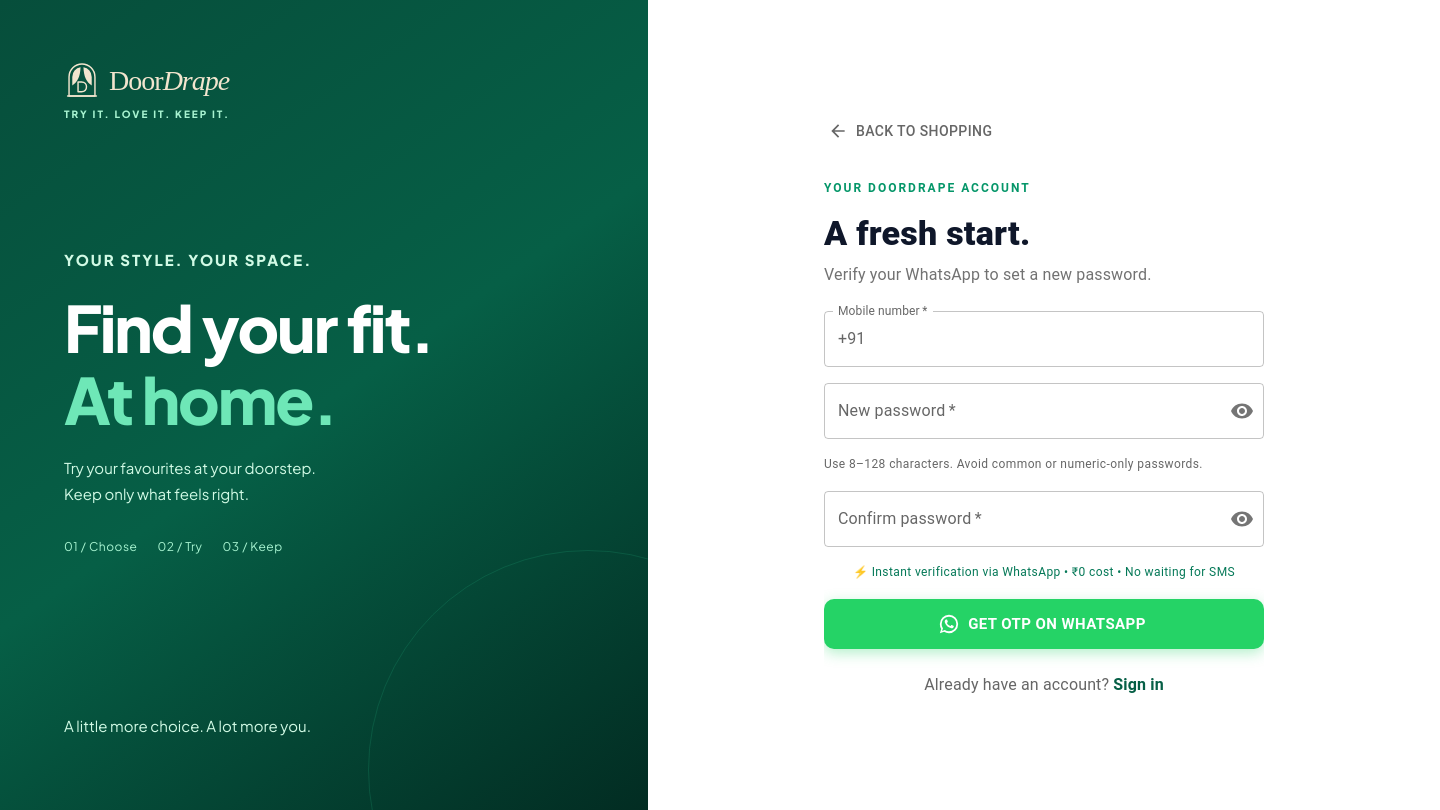
Test: shows error when unregistered mobile tries to reset password
The width and height of the screenshot is (1440, 810).
Type "9998887776" into the field labelled "Mobile number *" at [1069, 339], box left=874, top=311, right=1264, bottom=367
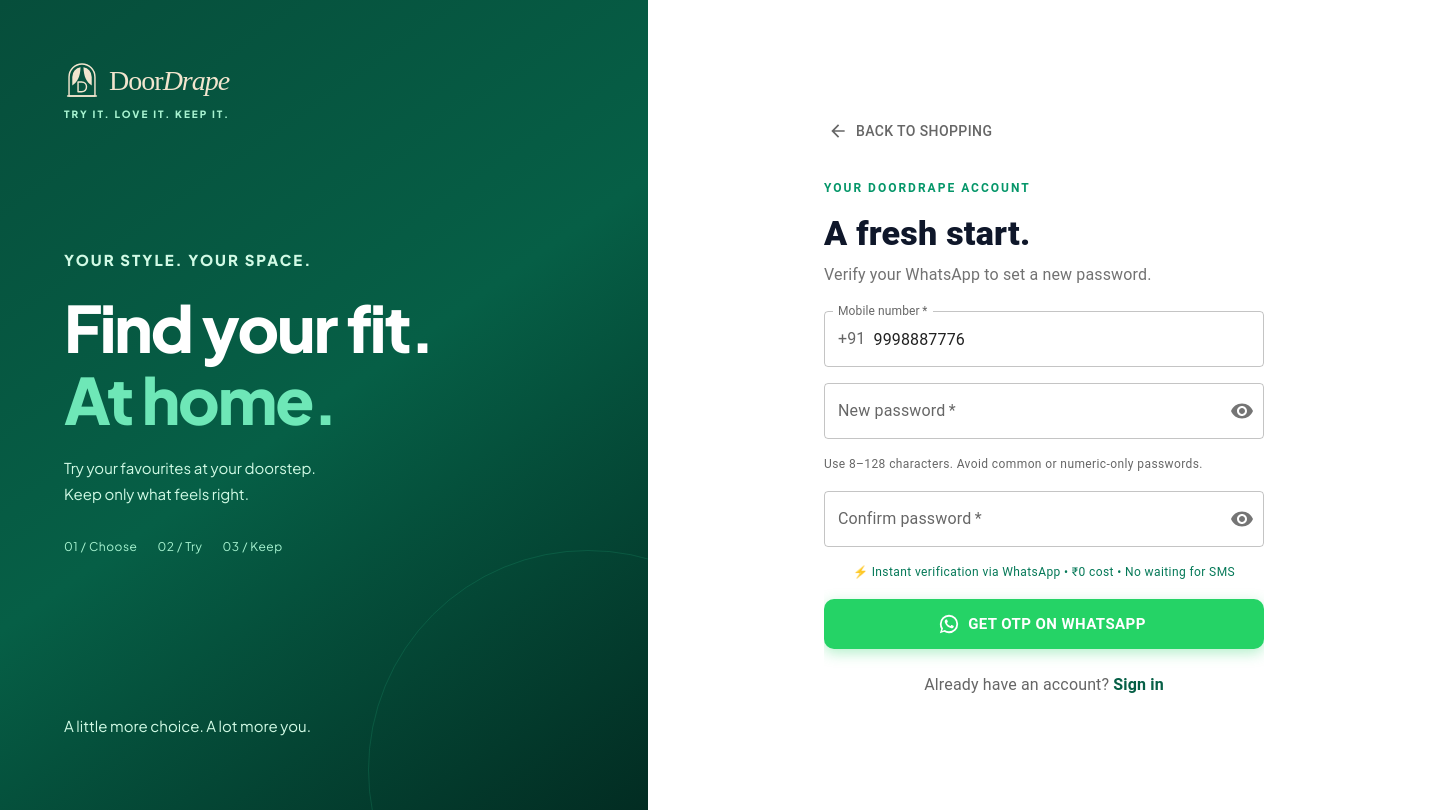
Type "SecretPass123!" into the password field labelled "New password *" at [1019, 411], box left=824, top=383, right=1214, bottom=439
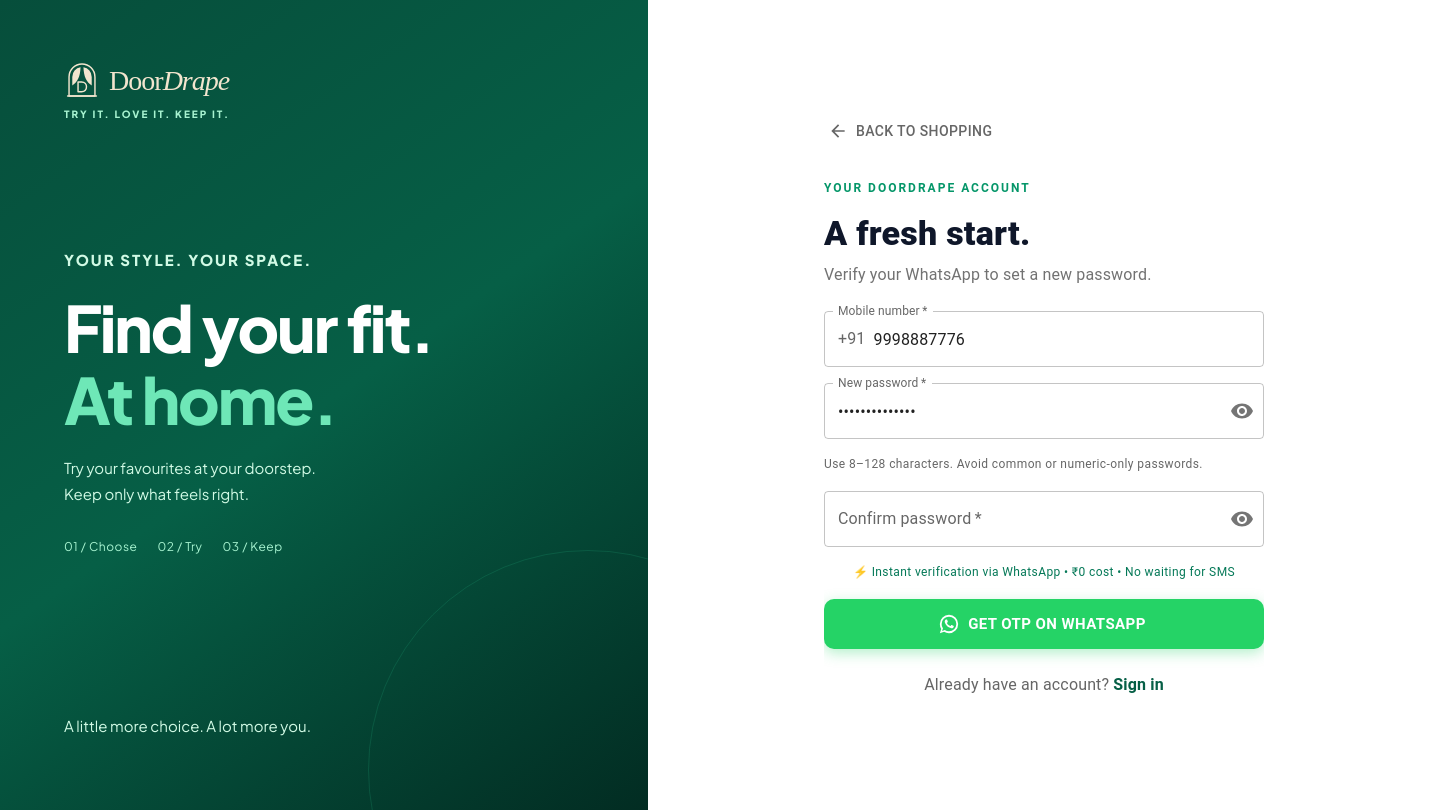
Type "SecretPass123!" into the password field labelled "Confirm password *" at [1019, 519], box left=824, top=491, right=1214, bottom=547
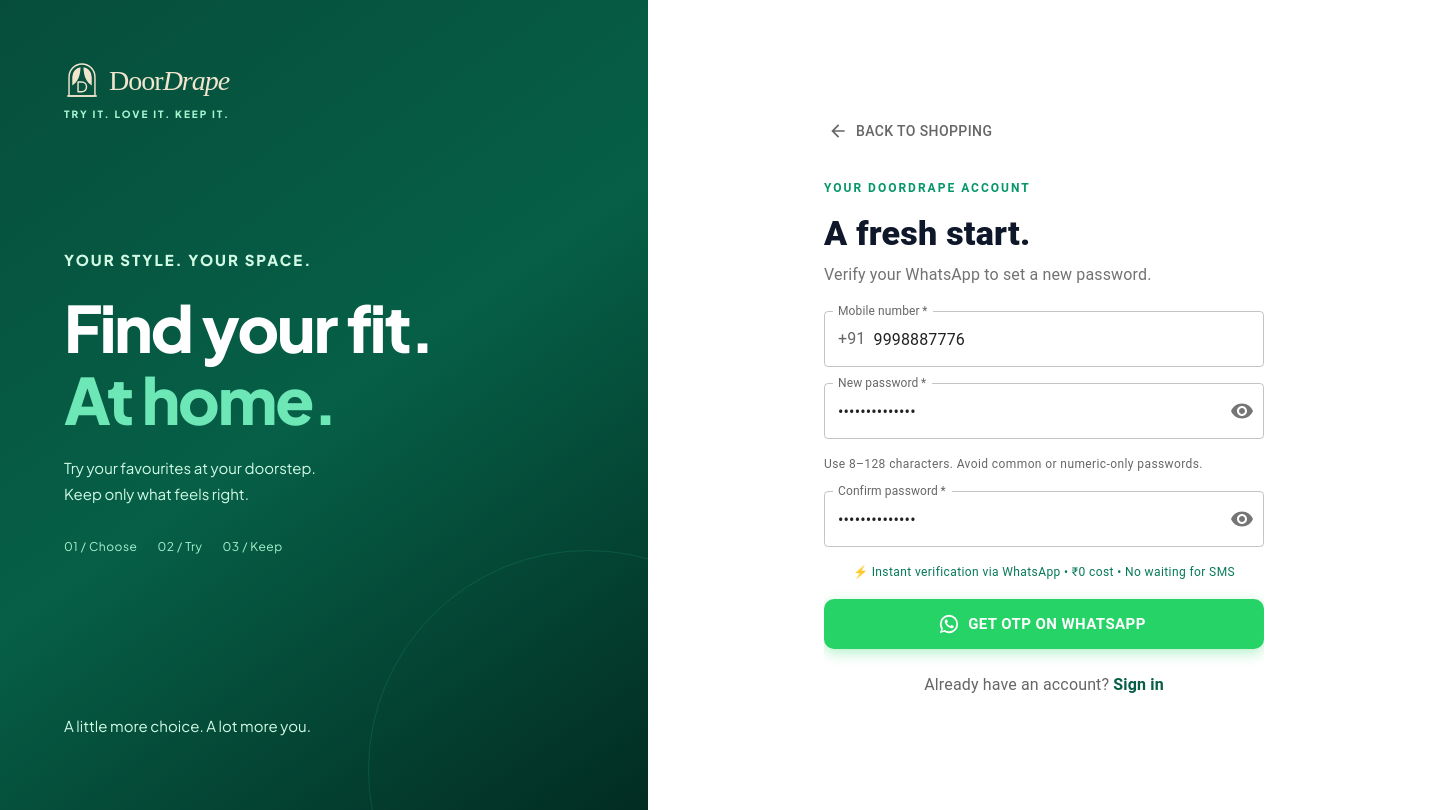
Click the button "Get OTP on WhatsApp" at [1044, 624], box left=824, top=599, right=1264, bottom=649
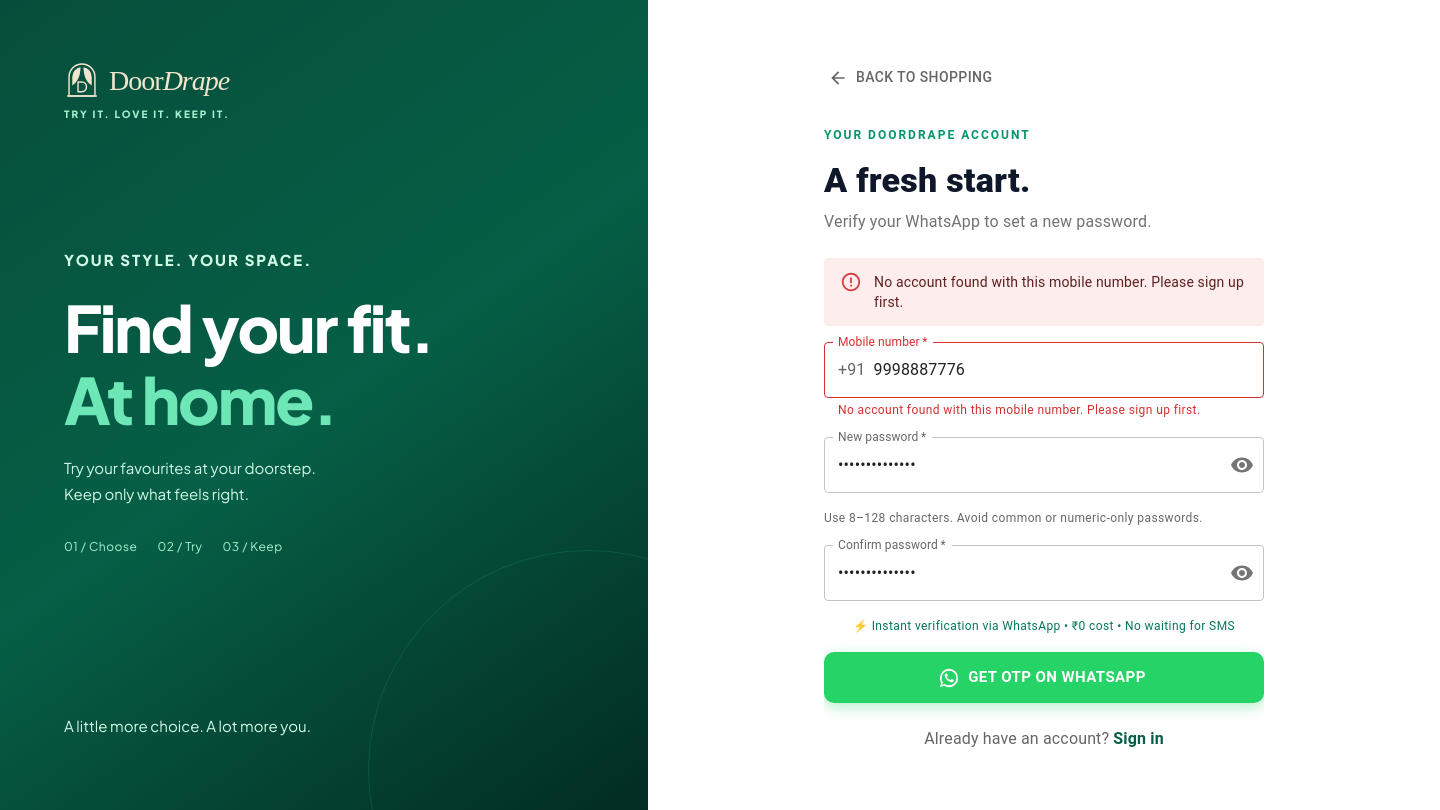
Now the 1st text "No account found with this mobile number" is shown, box left=874, top=274, right=1244, bottom=310
